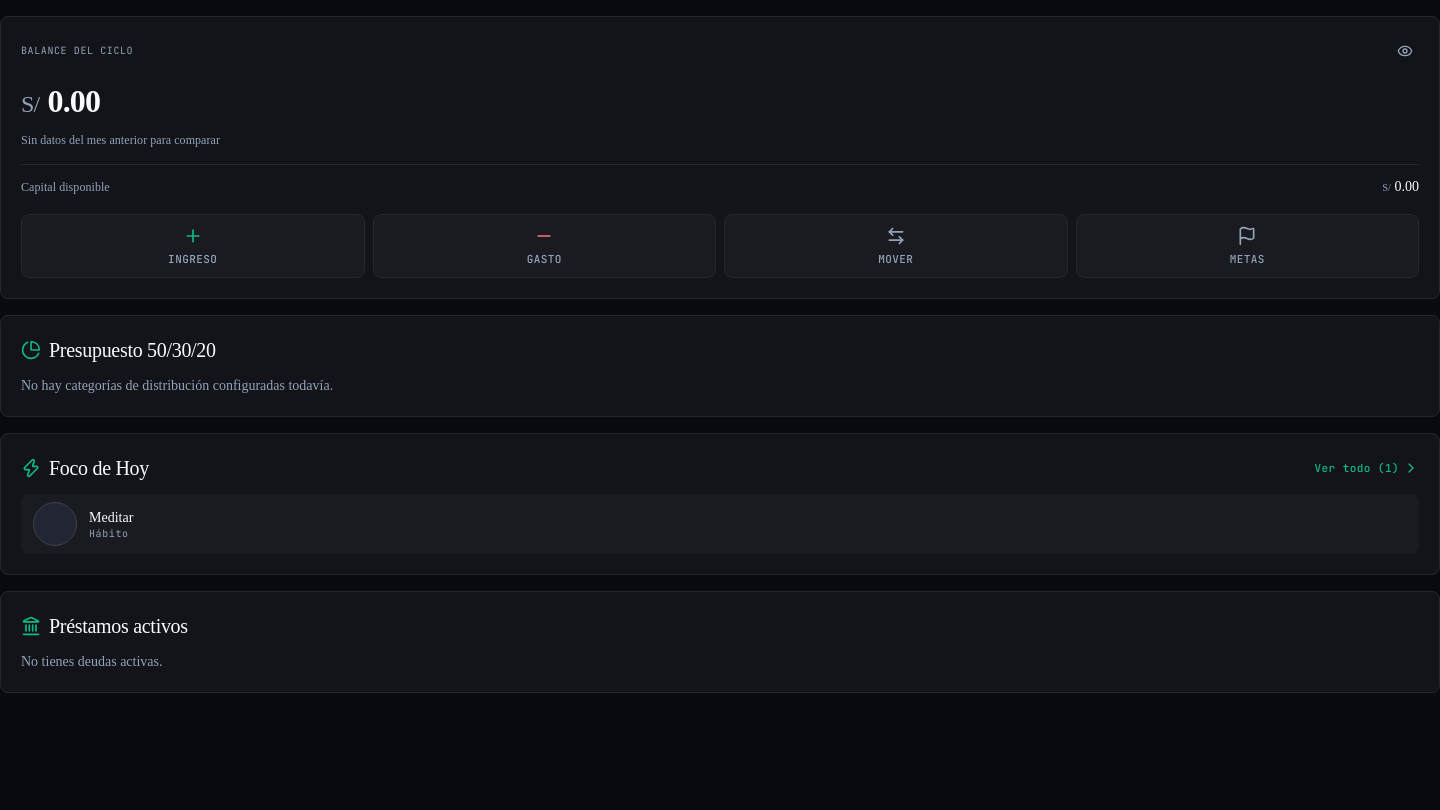
Test: Dashboard — Foco de Hoy › marks a habit done with the check (recordCompletion for today) and keeps it done
This screenshot has width=1440, height=810.
Click the checkbox named "meditar".
click(55, 524)  # box x1=33 y1=502 x2=77 y2=546
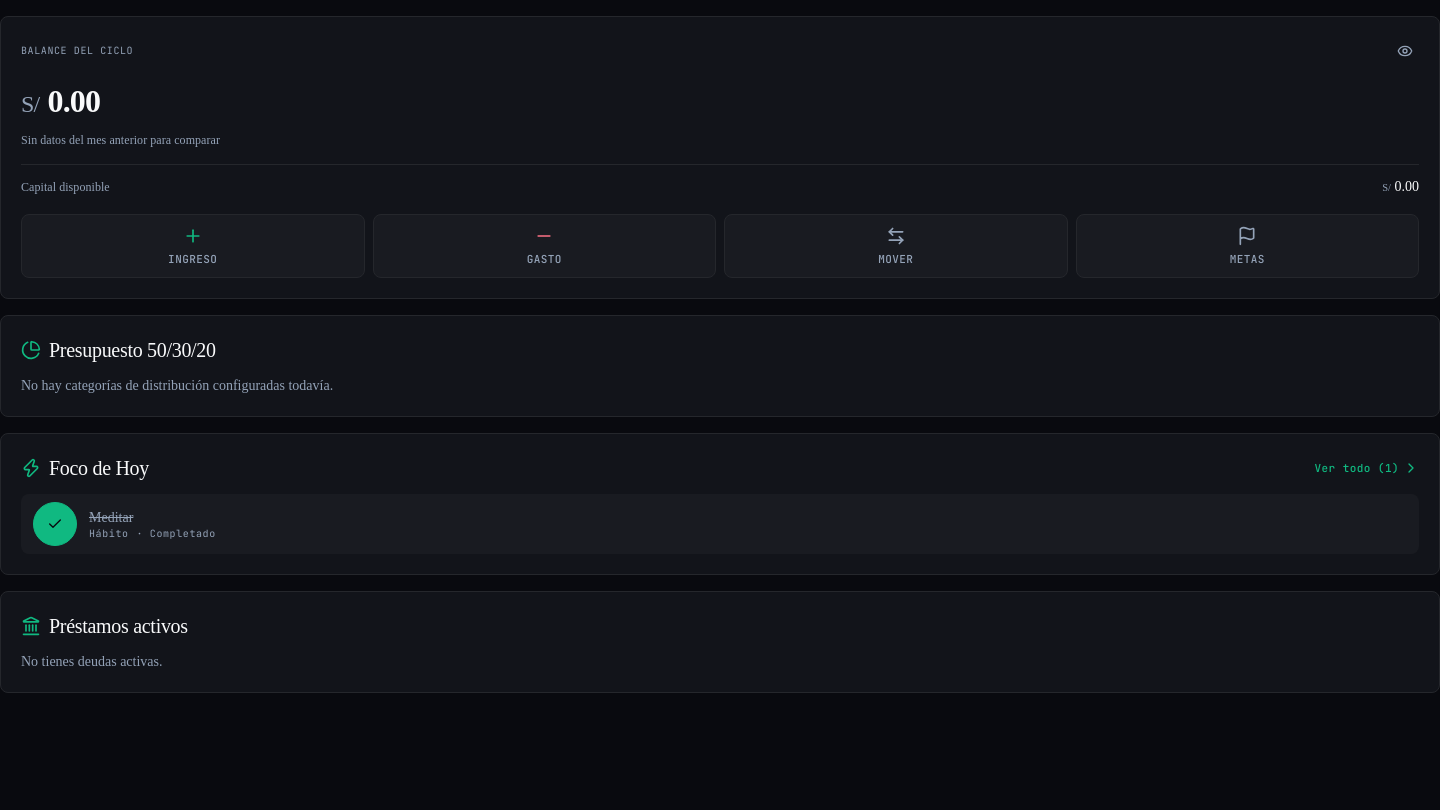
Now the checkbox named "meditar" is disabled, box x1=33 y1=502 x2=77 y2=546
Now the list item with test id "focus-item-habit-h1" shows "Completado", box x1=137 y1=527 x2=216 y2=540
